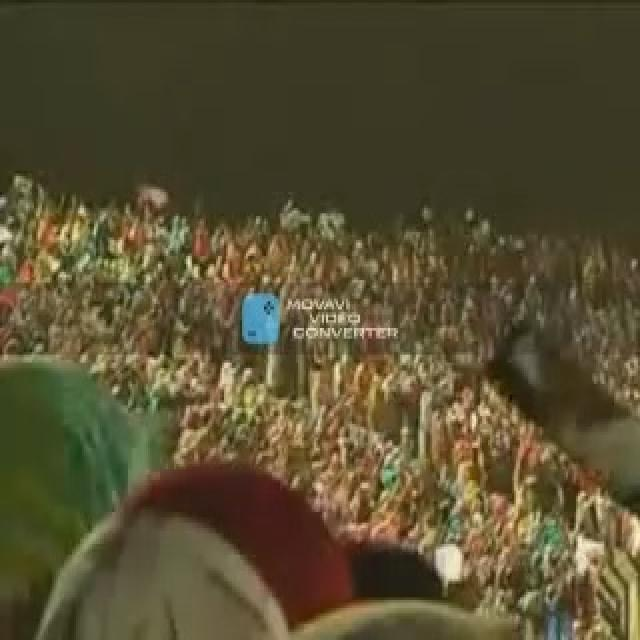non-voilence: (0, 171, 638, 637), (238, 290, 282, 346)
